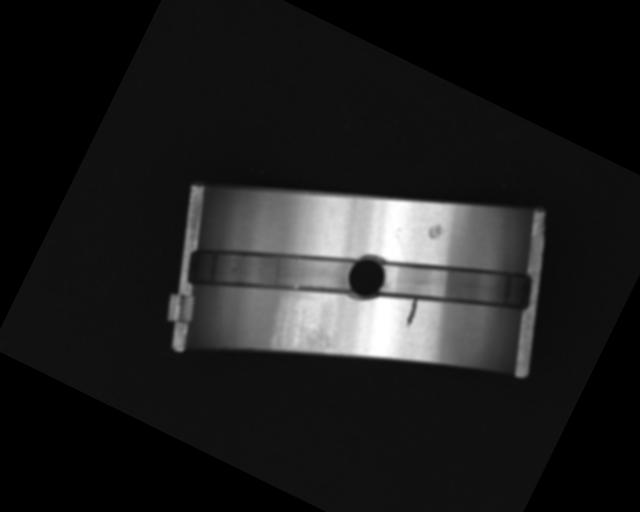bruise: (423, 220, 446, 244)
gap: (186, 199, 360, 341), (377, 220, 537, 347)
hole: (341, 251, 393, 303)
nick: (399, 296, 423, 331)
scratch: (259, 292, 343, 380)
